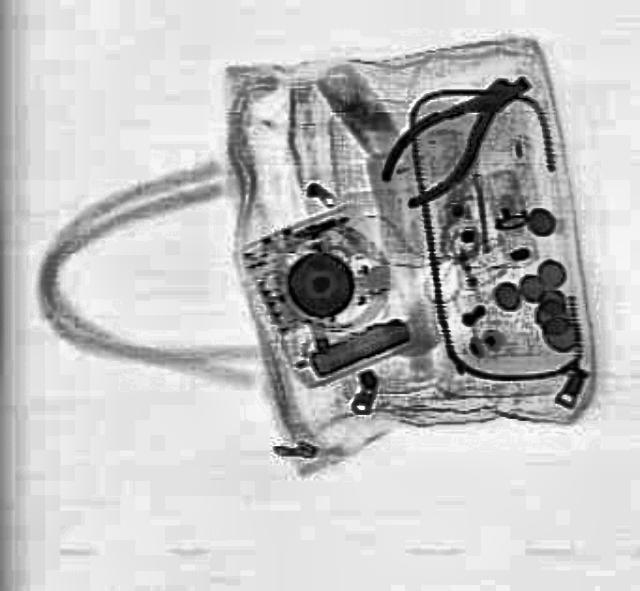Pliers: (360, 50, 550, 215)
